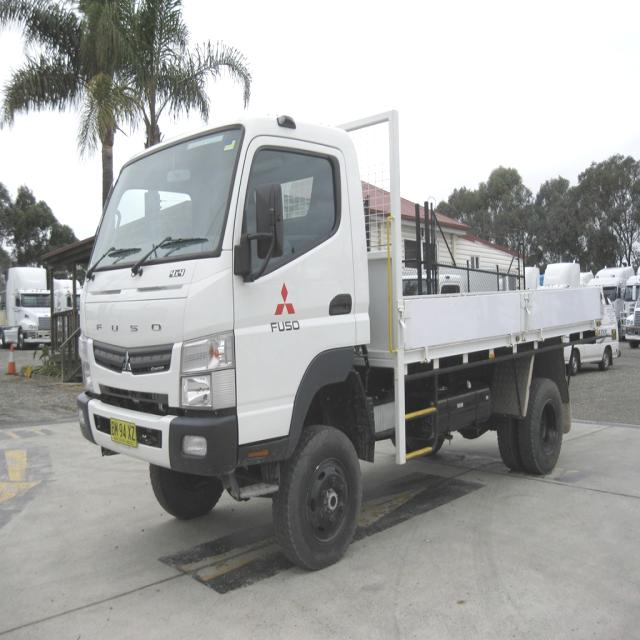truck: (76, 104, 602, 570)
